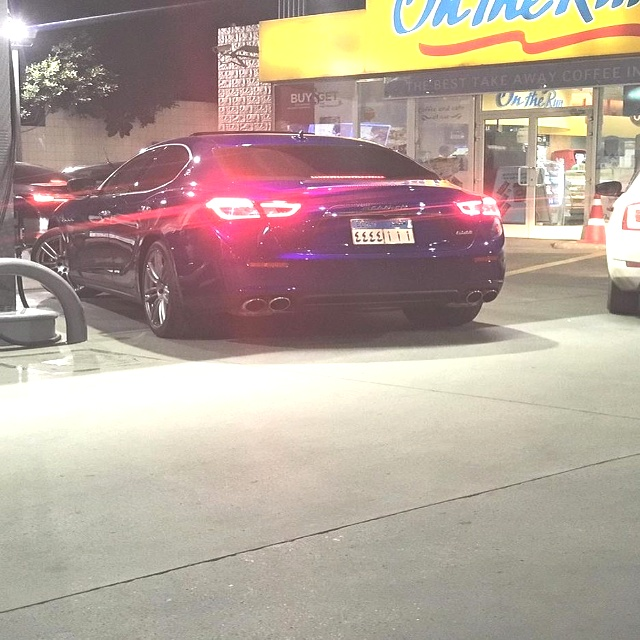License Plate: (349, 218, 416, 246)
